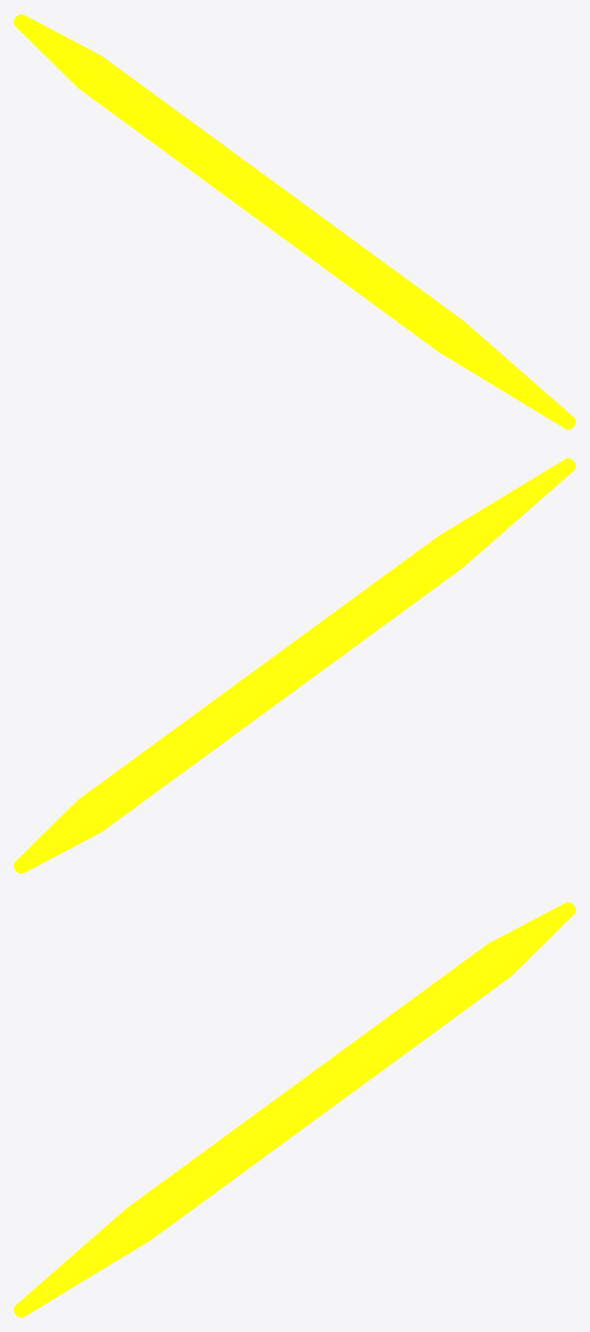
Rendered from Tracer.glb.
3 renders of one model, top to bottom at view 1: azimuth 30°, elevation 25°; view 2: azimuth 150°, elevation 25°; view 3: azimuth 330°, elevation 25°, orthographic.
Parts seen in each view (by area): view 1: Tracer object; view 2: Tracer object; view 3: Tracer object.
Part boxes in pixels (x1=…): Tracer object: x1=14, y1=14, x2=575, y2=429; Tracer object: x1=14, y1=458, x2=575, y2=873; Tracer object: x1=14, y1=902, x2=575, y2=1317.
Size of the model in its own units: 0.0114 by 0.0114 by 0.3141.
